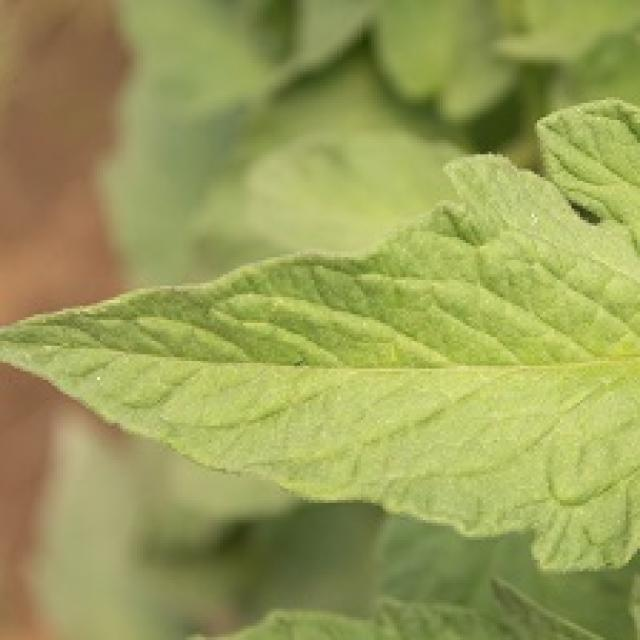Healthy: (0, 100, 637, 569)
